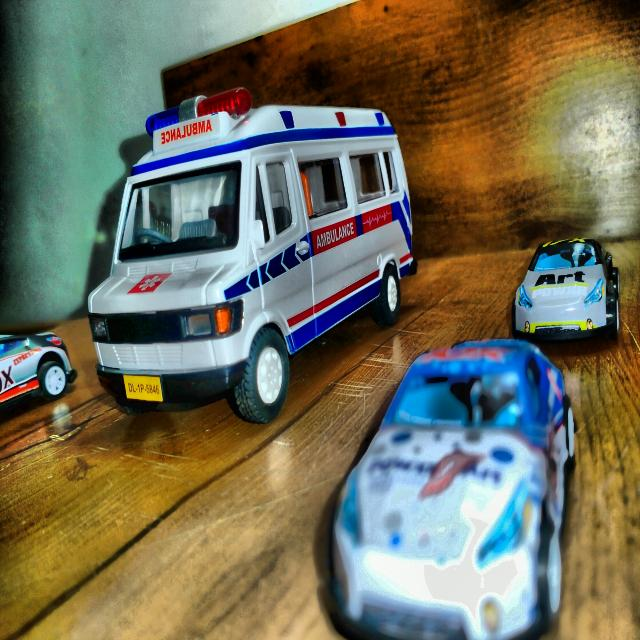Ambulance: (86, 73, 394, 421)
Car: (512, 238, 619, 342), (0, 332, 77, 406)
